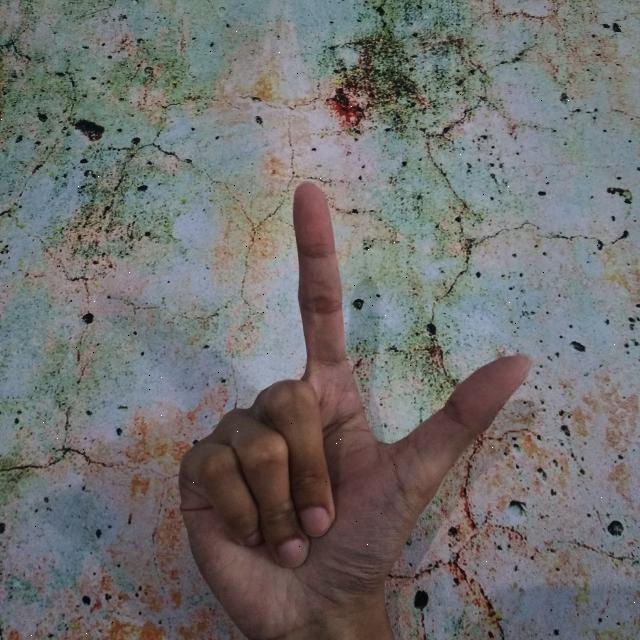L: (172, 177, 538, 640)
